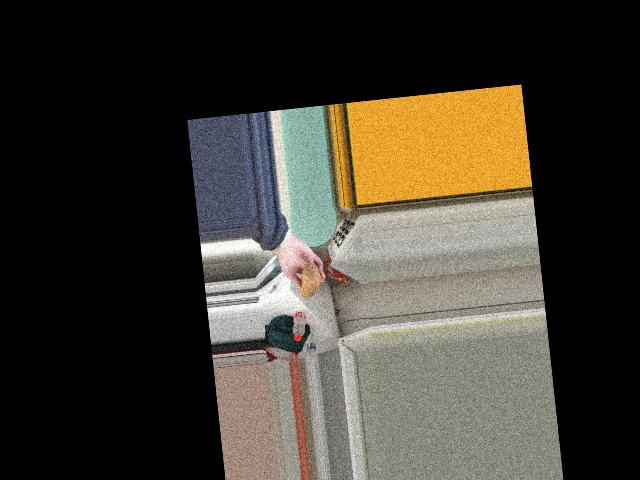sweet_potato: (299, 257, 321, 299)
